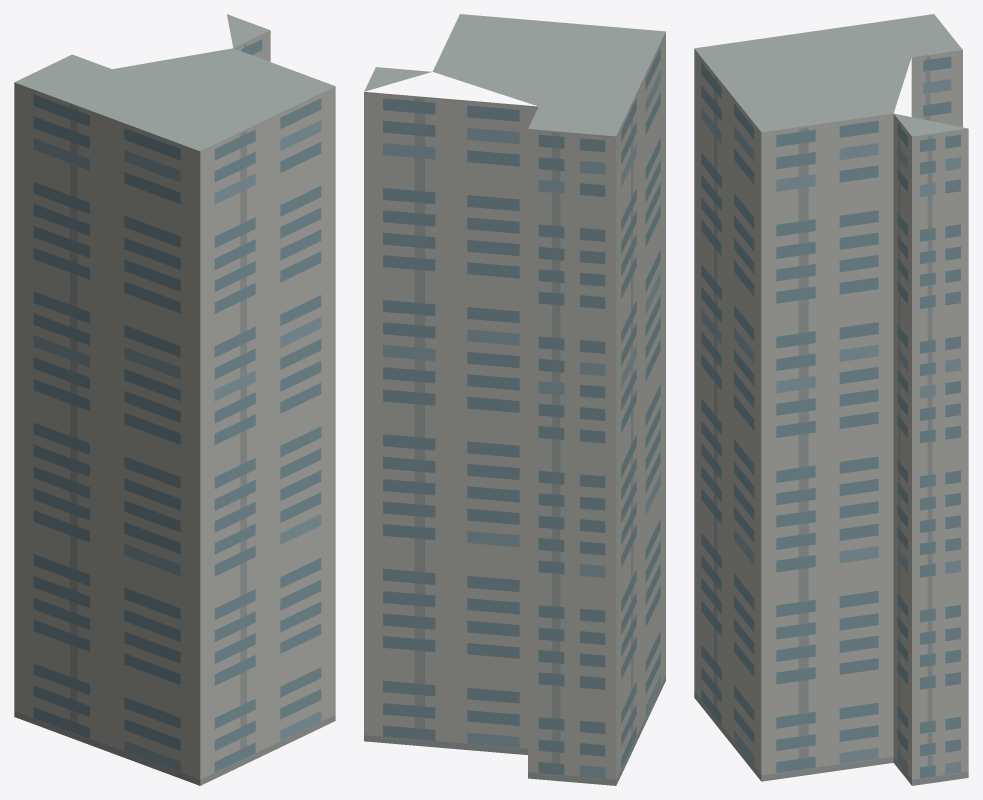
The model's file is residential-458c07e6-4d3b-4d99-8bf4-13f802531a79.glb.
3 renders of one model, left to right at view 1: azimuth 30°, elevation 25°; view 2: azimuth 150°, elevation 25°; view 3: azimuth 270°, elevation 25°, orthographic. The views are drawn at different scales.
Visible parts, largest first — view 1: residential-458c07e6-4d3b-4d99-8bf4-13f802531a79.tmp; view 2: residential-458c07e6-4d3b-4d99-8bf4-13f802531a79.tmp; view 3: residential-458c07e6-4d3b-4d99-8bf4-13f802531a79.tmp.
Part boxes in pixels (<box>): residential-458c07e6-4d3b-4d99-8bf4-13f802531a79.tmp: <box>14,14,335,785</box>; residential-458c07e6-4d3b-4d99-8bf4-13f802531a79.tmp: <box>364,14,665,785</box>; residential-458c07e6-4d3b-4d99-8bf4-13f802531a79.tmp: <box>694,14,968,785</box>.
Bounding box in the file's own units: 33.22 × 82 × 31.43.
